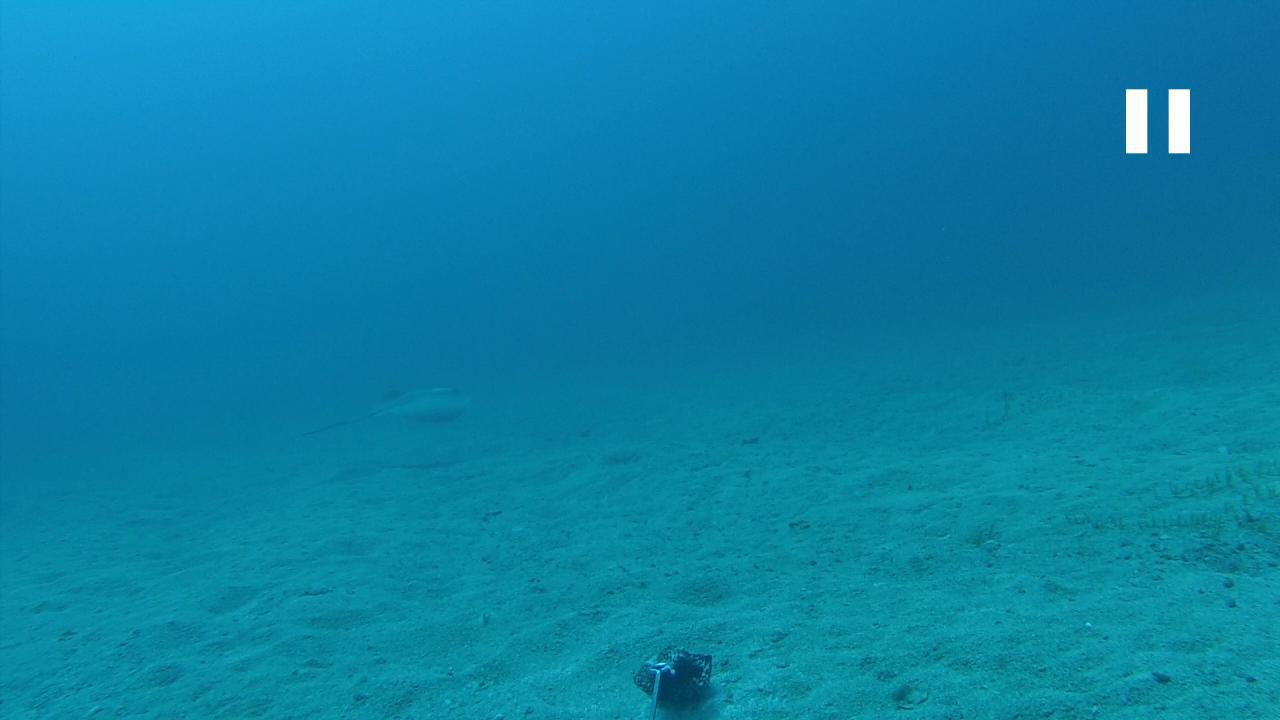dasyatis: (296, 380, 472, 436)
